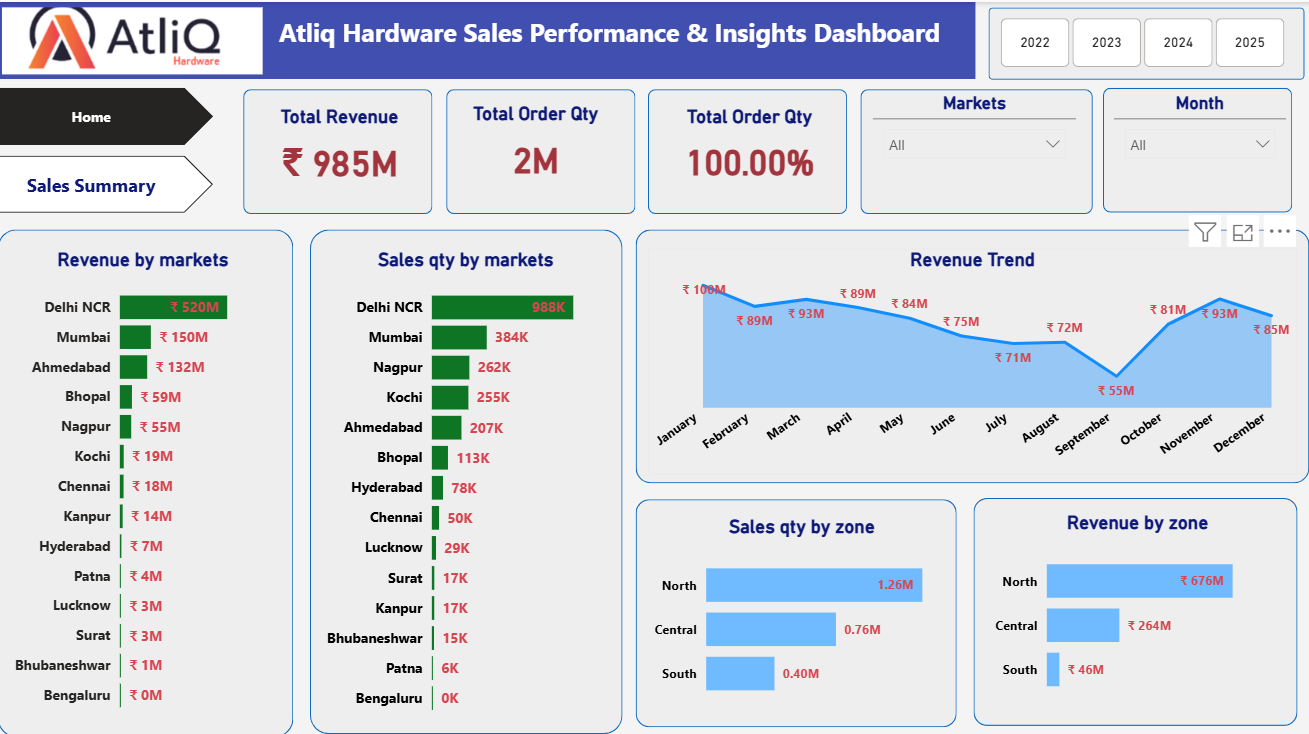

The dashboard page shown, as its layout file describes it:
{"tool":"powerbi","page":{"name":"Home","canvas":[1280,720],"ordinal":0},"visuals":[{"type":"shape","box":[13.8,219.5,284.3,488.6],"z":0},{"type":"shape","box":[628,219.5,648.7,244.3],"z":1000},{"type":"shape","box":[628,479,309.2,219.5],"z":2000},{"type":"shape","box":[314.7,219.5,300.9,485.9],"z":3000},{"type":"shape","box":[953.8,477.6,311.9,219.5],"z":4000},{"type":"barChart","title":"Revenue by markets","fields":{"Category":["markets.markets_name"],"Y":["transactions.Revenue"]},"box":[23.5,237.4,260.9,458.2],"z":5000},{"type":"barChart","title":"Sales qty by markets","fields":{"Category":["markets.markets_name"],"Y":["Sum(transactions.sales_qty)"]},"box":[324.4,237.4,281.6,461],"z":6000},{"type":"textbox","box":[191.8,0,763.8,74.5],"z":7000},{"type":"barChart","fields":{"Category":["markets.zone"],"Y":["transactions.Revenue"]},"box":[967.6,490,287.1,191.9],"z":8000},{"type":"barChart","title":"Sales qty by zone","fields":{"Category":["markets.zone"],"Y":["Sum(transactions.sales_qty)"]},"box":[640.4,494.1,296.8,191.9],"z":9000},{"type":"areaChart","title":"Revenue Trend","fields":{"Category":["transactions.Month_Name"],"Y":["transactions.Revenue"]},"box":[640.4,237.4,625.3,218.1],"z":10000},{"type":"shape","box":[251.2,84.2,182.2,120.1],"z":11000},{"type":"shape","box":[968.3,4.8,304.3,69.7],"z":12000},{"type":"shape","box":[445.8,84.2,182.2,120.1],"z":13000},{"type":"card","title":"Total Revenue","fields":{"Values":["transactions.Revenue"]},"box":[258.1,93.9,169.8,99.4],"z":14000},{"type":"card","title":"Total Order Qty","fields":{"Values":["transactions.Total_orders_qty"]},"box":[448.6,92.5,167,100.8],"z":15000},{"type":"shape","box":[844.7,84.2,223.6,120.1],"z":16000},{"type":"advancedSlicerVisual","fields":{"Values":["transactions.year"]},"box":[980,11,280.2,56.6],"z":17000},{"type":"image","box":[12.7,0,261.5,74.5],"z":18000},{"type":"pageNavigator","box":[13.8,82.8,207,121.5],"z":19000},{"type":"shape","box":[640.4,84.2,191.9,120.1],"z":20000},{"type":"shape","box":[1078,82.8,182.2,120.1],"z":20500},{"type":"card","title":"Total Order Qty","fields":{"Values":["transactions.Sales_Percentage"]},"box":[654.2,93.9,167,100.8],"z":21000},{"type":"slicer","title":"Month","fields":{"Values":["DimDate.Month_Name"]},"box":[1089,88.3,165.6,106.3],"z":22000},{"type":"slicer","title":"Markets","fields":{"Values":["markets.markets_name"]},"box":[857.1,88.3,196,104.9],"z":24000}]}

Visuals, with their boxes in screenshot pixels (x1, y1, x2, y2), scaled from the page's 1280x720 canvas onto the 1309x734 screenshot:
shape: detection(14, 224, 305, 722)
shape: detection(642, 224, 1306, 473)
shape: detection(642, 488, 958, 712)
shape: detection(322, 224, 630, 719)
shape: detection(975, 487, 1294, 711)
"Revenue by markets" barChart: detection(24, 242, 291, 709)
"Sales qty by markets" barChart: detection(332, 242, 620, 712)
textbox: detection(196, 0, 977, 76)
barChart - markets.zone x transactions.Revenue: detection(990, 500, 1283, 695)
"Sales qty by zone" barChart: detection(655, 504, 958, 699)
"Revenue Trend" areaChart: detection(655, 242, 1294, 464)
shape: detection(257, 86, 443, 208)
shape: detection(990, 5, 1301, 76)
shape: detection(456, 86, 642, 208)
"Total Revenue" card: detection(264, 96, 438, 197)
"Total Order Qty" card: detection(459, 94, 630, 197)
shape: detection(864, 86, 1093, 208)
advancedSlicerVisual - transactions.year: detection(1002, 11, 1289, 69)
image: detection(13, 0, 280, 76)
pageNavigator: detection(14, 84, 226, 208)
shape: detection(655, 86, 851, 208)
shape: detection(1102, 84, 1289, 207)
"Total Order Qty" card: detection(669, 96, 840, 198)
"Month" slicer: detection(1114, 90, 1283, 198)
"Markets" slicer: detection(877, 90, 1077, 197)
